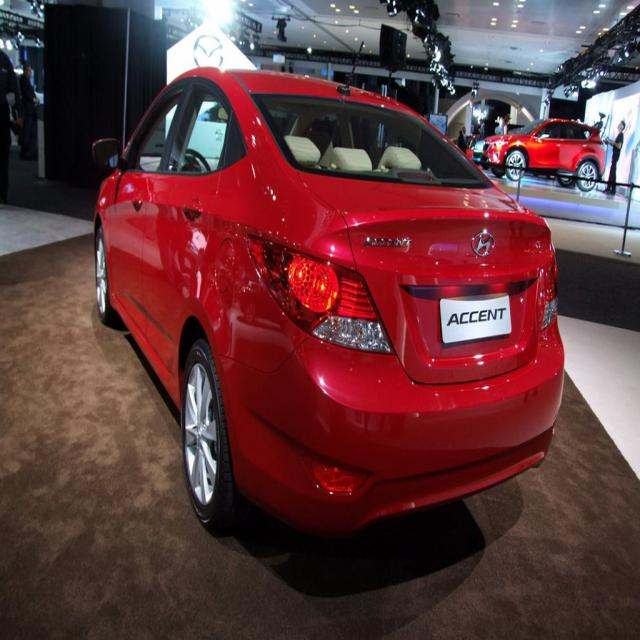car: (89, 57, 566, 544)
